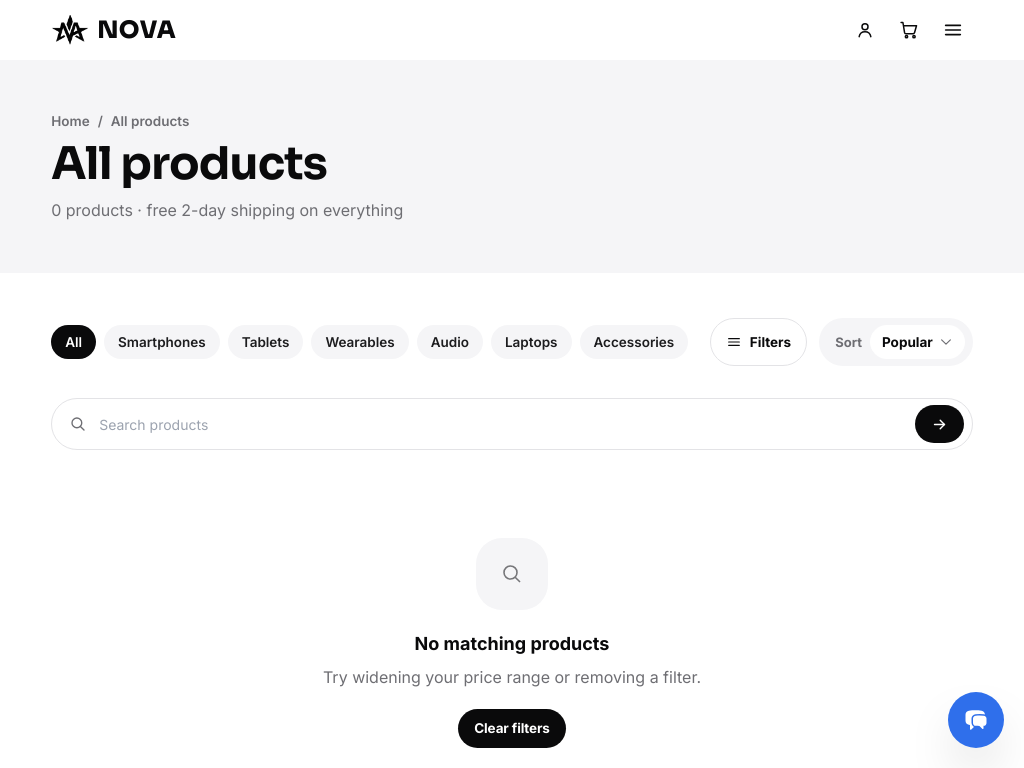
NOVA storefront › submits a catalog search and preserves it in the URL
Type "iphone" into the dropdown named "Search products". click: (501, 425)
box: [99,414,903,435]
Then press Enter
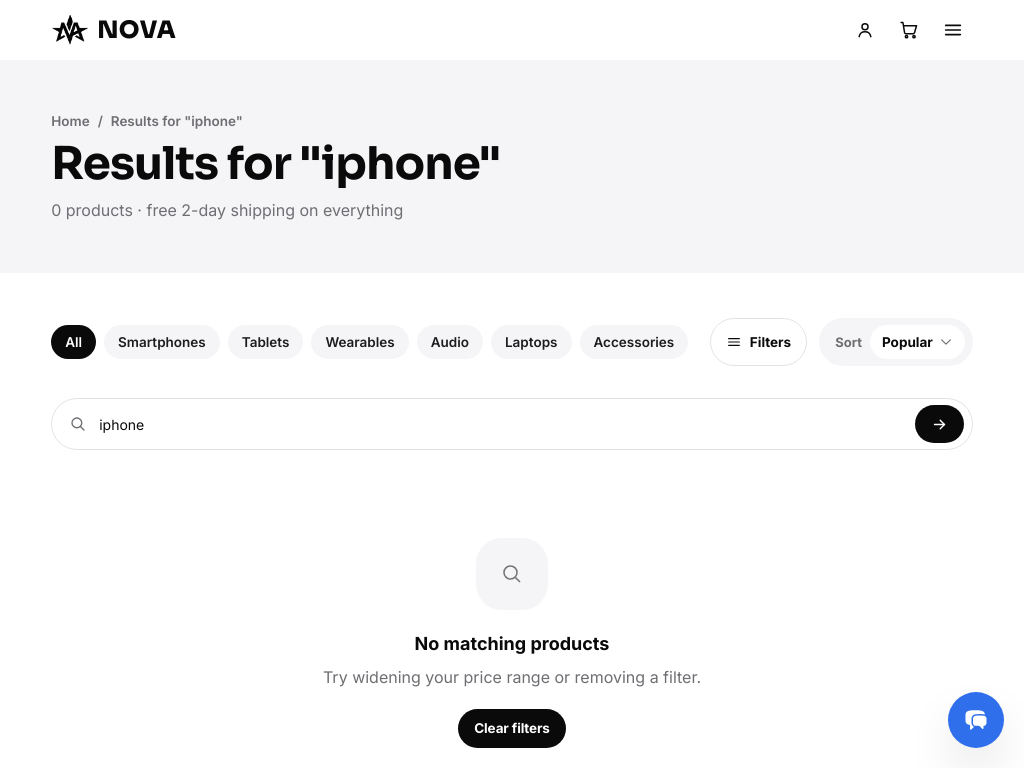
Expected: the heading "Results for \"iphone\"" is shown, [51,135,500,192]
